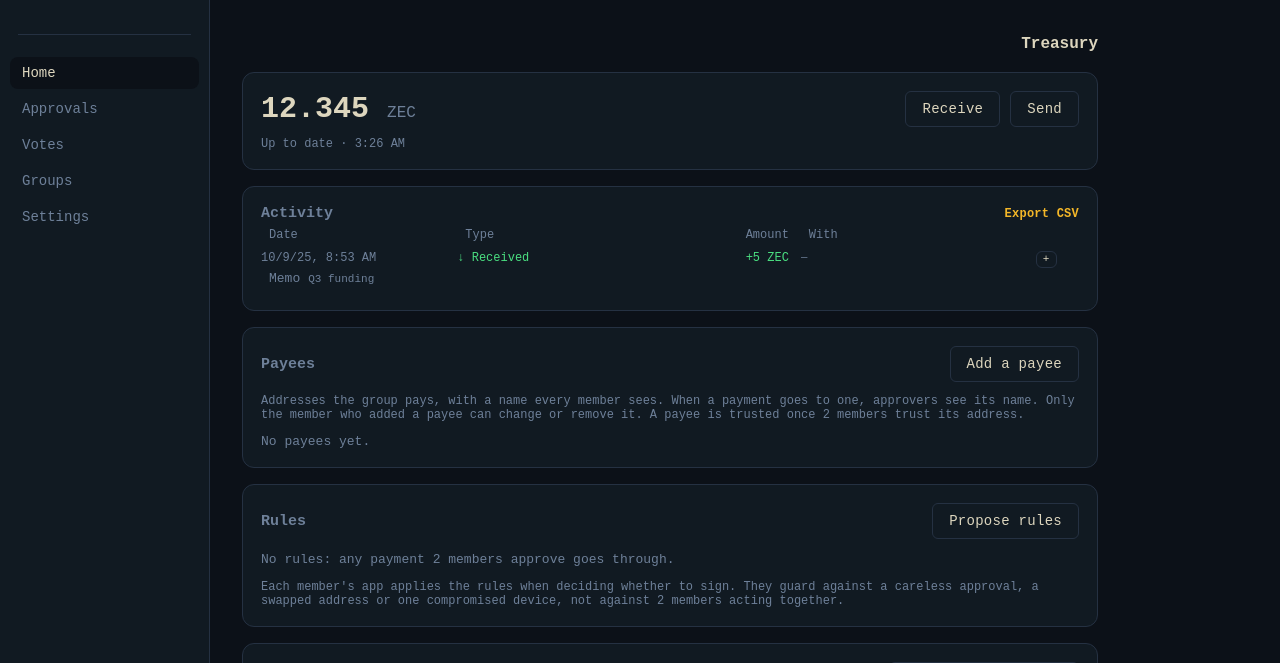
Test case: the wallet's history is exported as CSV for accounting
Click the button "Export CSV" at point(1042, 214), box [1005, 206, 1079, 220]
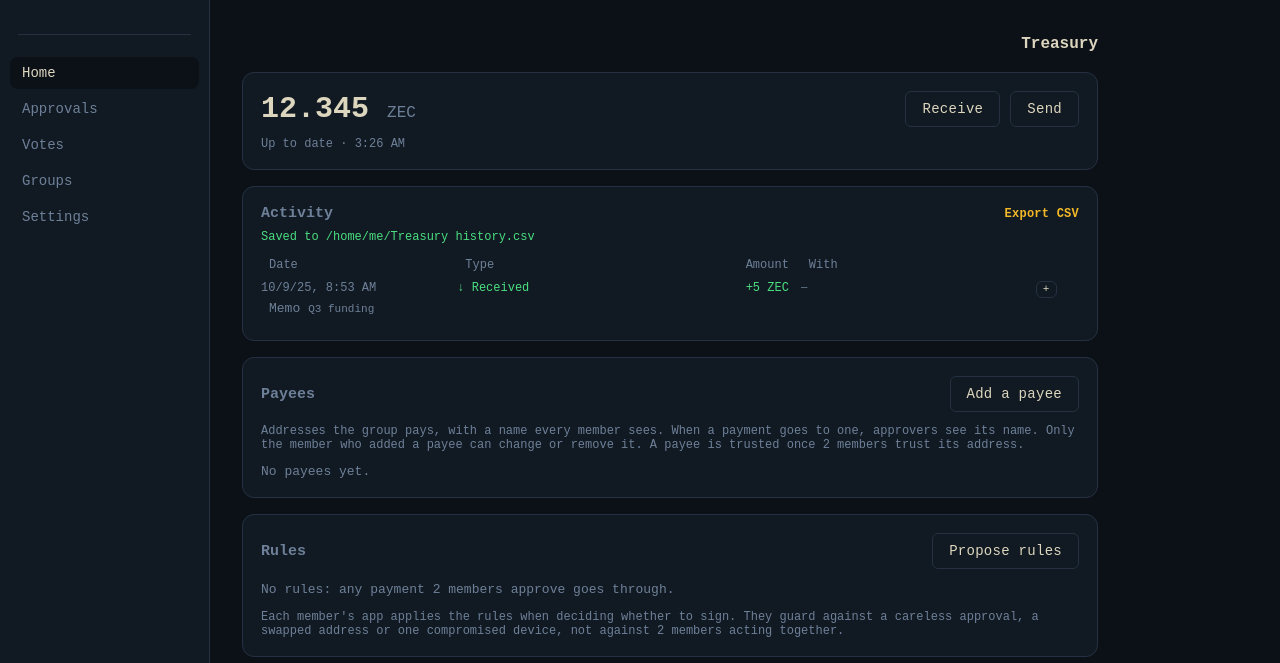
Expected: the text "Saved to /home/me/Treasury history.csv" is shown, [261, 230, 535, 244]
